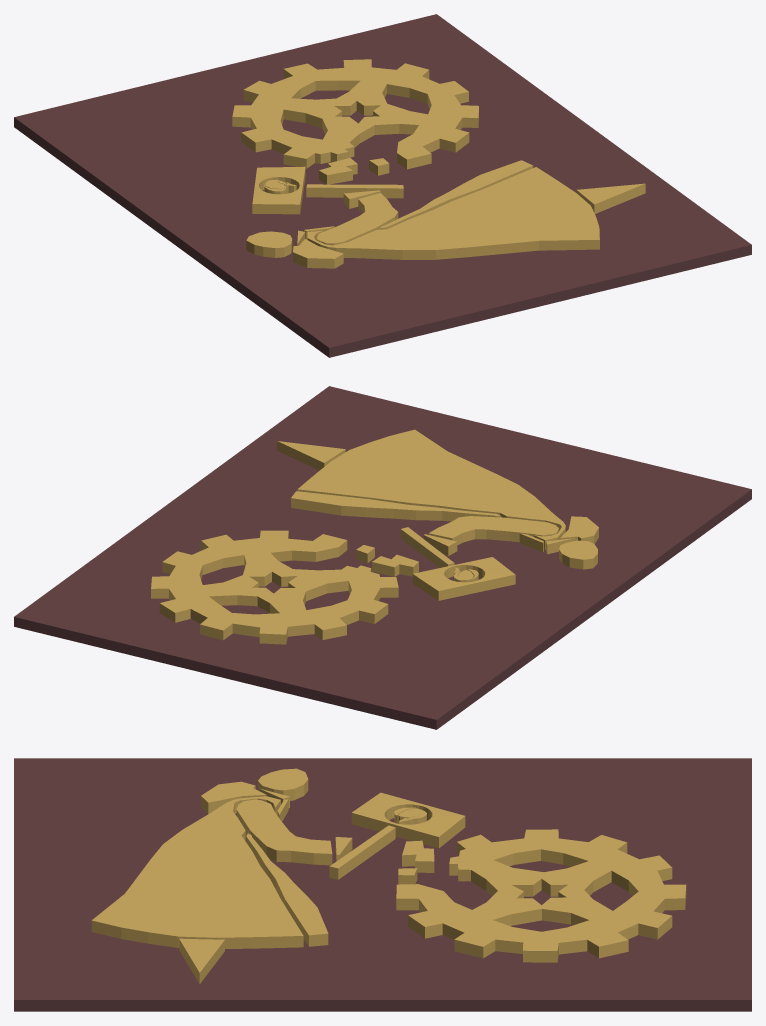
Rendered from fresque_3.fbx.
3 views of the same model, one above another, from view 1: azimuth 30°, elevation 25°; view 2: azimuth 150°, elevation 25°; view 3: azimuth 270°, elevation 25° (orthographic). The views are drawn at different scales.
Parts seen in each view (by area): view 1: Plane.002, Cube.003; view 2: Plane.002, Cube.003; view 3: Plane.002, Cube.003.
Boxes of the visible parts, x1,y1,x2,y2 form: Plane.002: (14,14,751,357); Cube.003: (232,59,645,268); Plane.002: (14,386,751,729); Cube.003: (151,429,598,644); Plane.002: (14,758,751,1011); Cube.003: (91,768,686,983).
Bounding box in the file's own units: 354 × 15.92 × 457.
